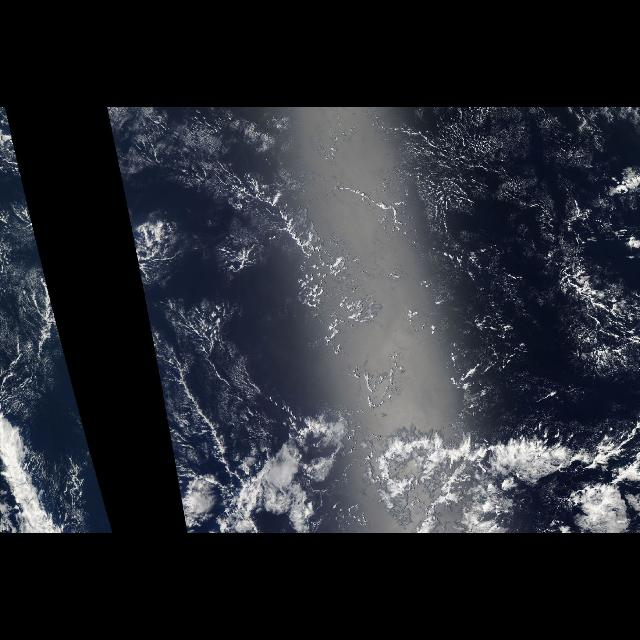Sugar: (392, 113, 574, 253)
